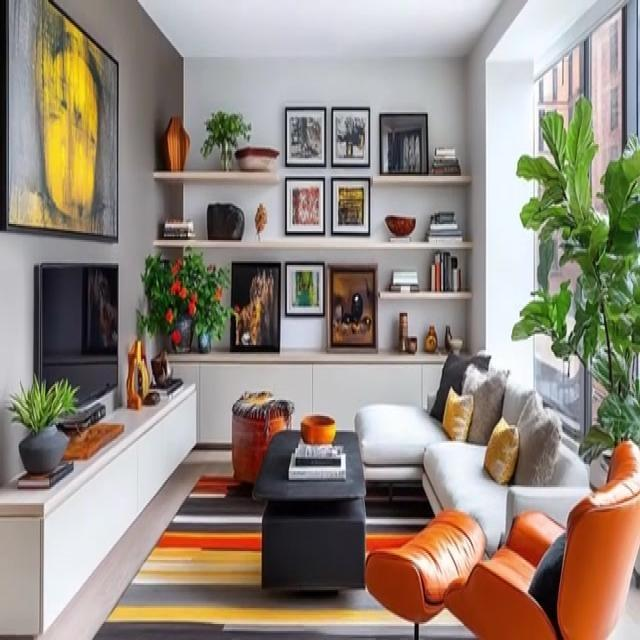obstacle: (0, 382, 198, 640), (354, 352, 591, 558), (452, 448, 640, 640), (251, 426, 366, 594)
